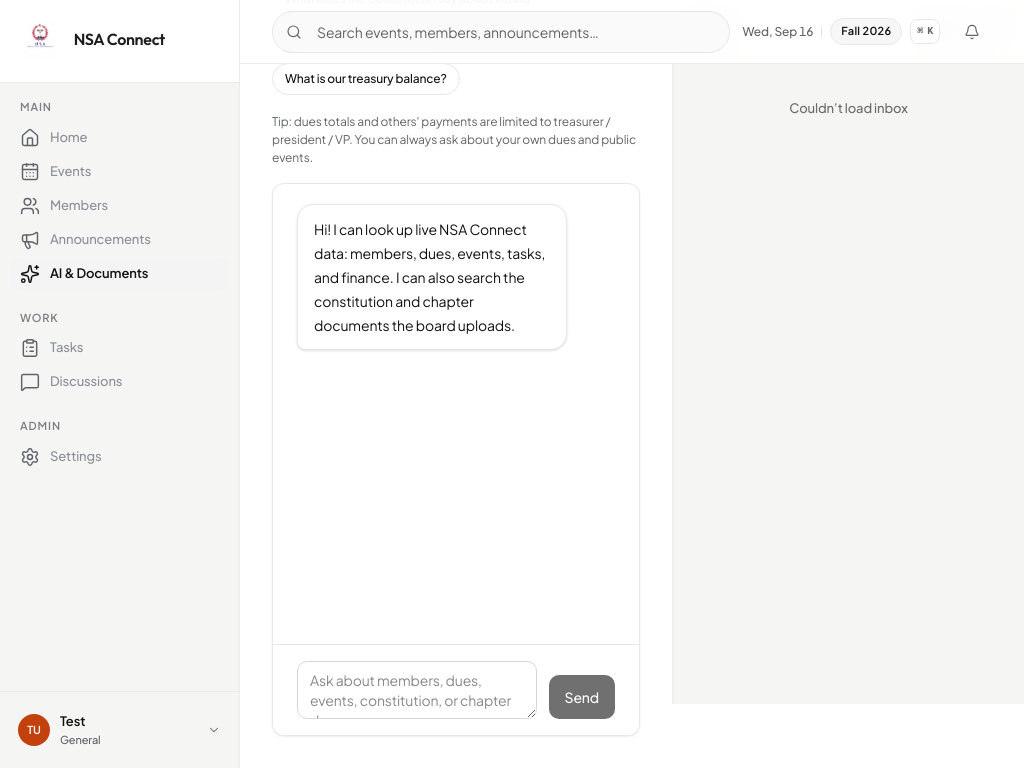
Test: AiAssistantPage › renders chat history, streams assistant reply, and shows constitution sources
(page scrolled)
Type "How are officers elected?" into the text box named "Message the AI assistant" at (417, 690), box [297,661,536,719]
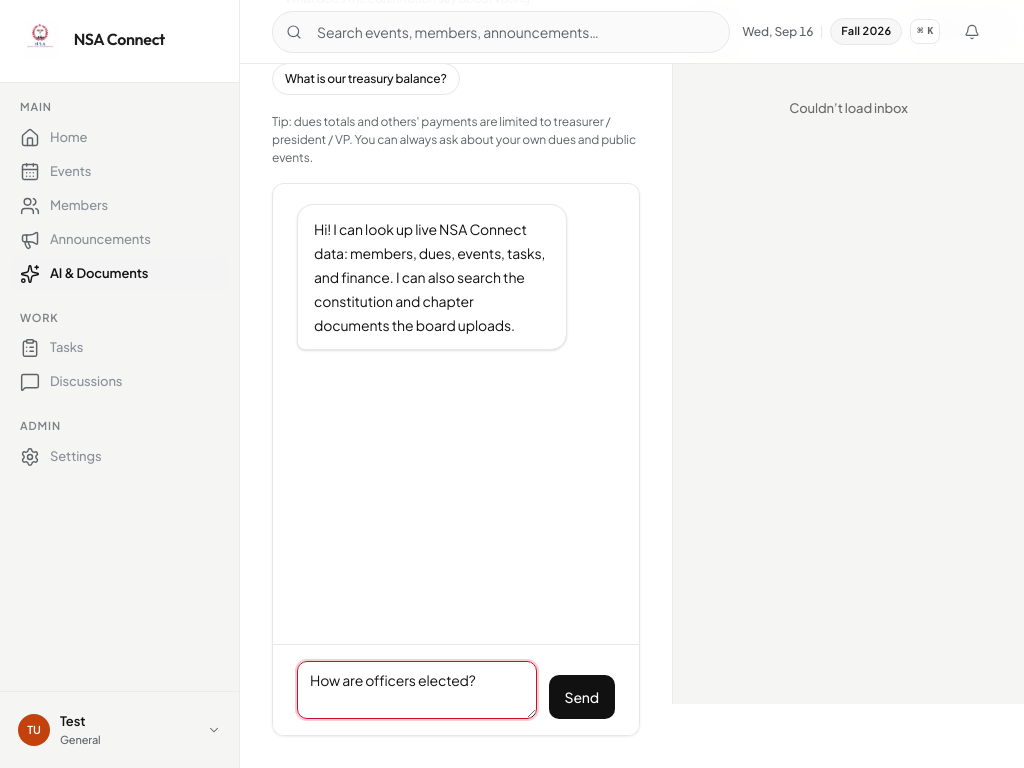
Click the button "Send" at (582, 697), box [548,675,615,719]
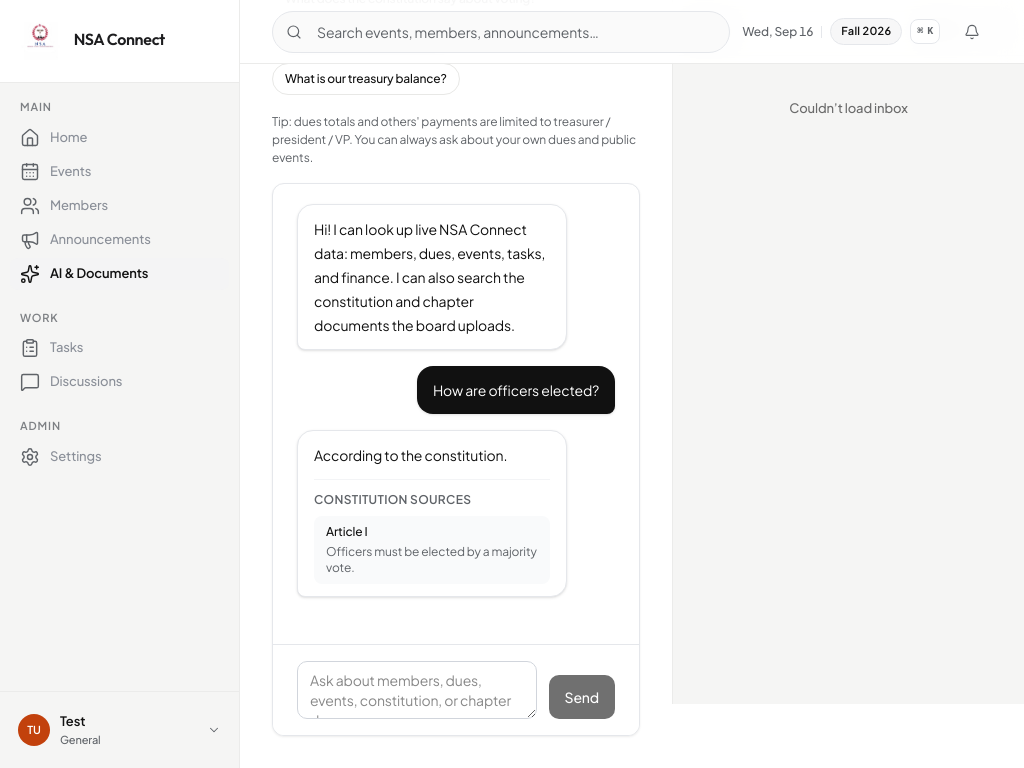
Result: the text "According to the constitution." is shown at [314,446,507,464]
Result: the text "Constitution sources" is shown at [314,492,471,507]
Result: the text "Officers must be elected by a majority vote." is shown at [326,544,538,576]
